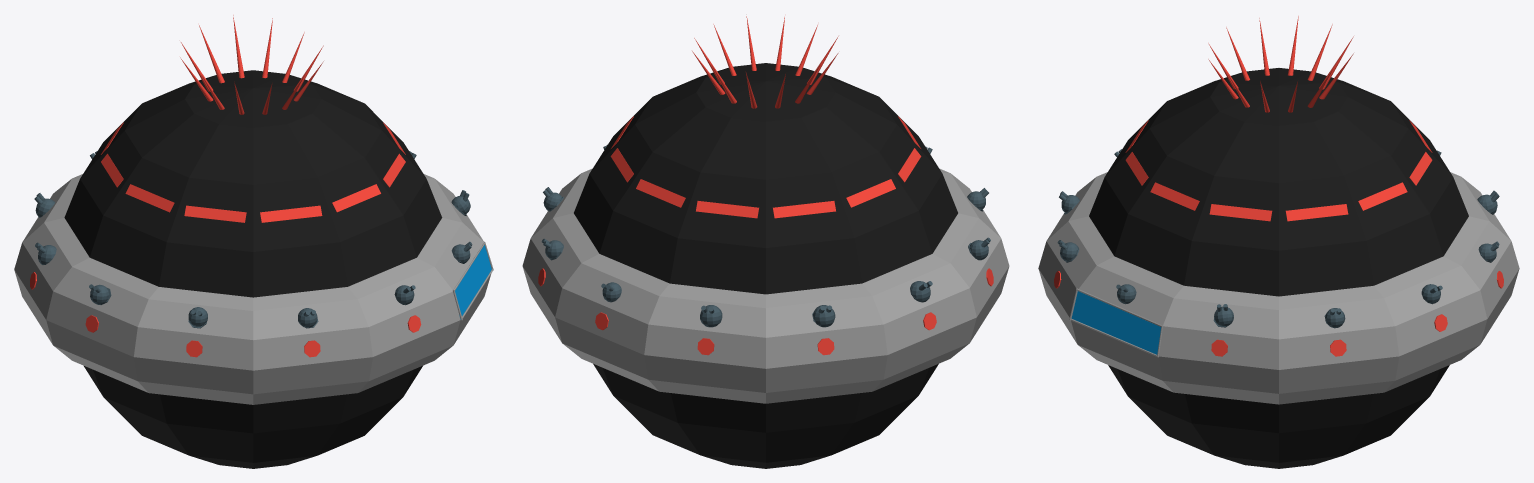
3 views of the same model, side by side, from view 1: azimuth 30°, elevation 25°; view 2: azimuth 150°, elevation 25°; view 3: azimuth 270°, elevation 25° (orthographic).
Parts seen in each view (by area): view 1: mesh_431745910, mesh_707110144, group_1052782905, group_1323065448, group_1679953367, group_1025911718; view 2: mesh_431745910, mesh_707110144, group_674408740, group_139141690, group_493609865, group_40846965; view 3: mesh_431745910, mesh_707110144, group_13067743, group_1038443729, group_2036910082, group_382883186.
Boxes of the visible parts, x1,y1,x2,y2 form: mesh_431745910: (64, 70, 442, 468); mesh_707110144: (14, 174, 491, 404); group_1052782905: (260, 205, 322, 222); group_1323065448: (184, 205, 246, 222); group_1679953367: (332, 184, 380, 212); group_1025911718: (125, 184, 174, 212); mesh_431745910: (574, 63, 957, 468); mesh_707110144: (522, 168, 1009, 403); group_674408740: (773, 201, 835, 218); group_139141690: (696, 201, 758, 218); group_493609865: (846, 179, 895, 207); group_40846965: (636, 179, 685, 207); mesh_431745910: (1089, 68, 1468, 468); mesh_707110144: (1038, 172, 1519, 404); group_13067743: (1285, 204, 1348, 221); group_1038443729: (1209, 204, 1272, 221); group_2036910082: (1358, 182, 1407, 210); group_382883186: (1150, 182, 1199, 210).
Bounding box in the file's own units: 190 × 176 × 190.
